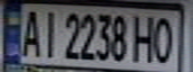2: (60, 8, 81, 61), (78, 9, 96, 61)
3: (96, 10, 115, 62)
8: (109, 10, 130, 62)
A: (18, 6, 45, 57)
H: (130, 11, 160, 63)
I: (39, 7, 60, 60)
O: (151, 12, 178, 63)
